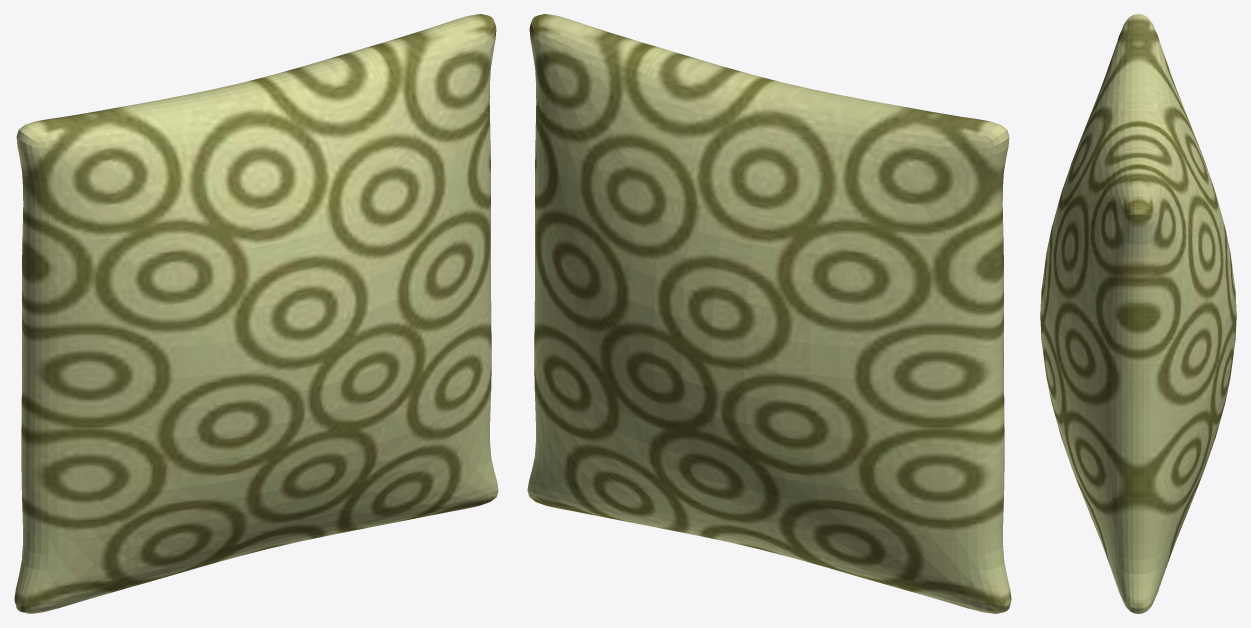
File: sweethome3d-contributions-pillow.glb
The picture shows the model from 3 angles, left to right: view 1: azimuth 30°, elevation 25°; view 2: azimuth 150°, elevation 25°; view 3: azimuth 270°, elevation 25°; orthographic projection. The views are drawn at different scales.
Parts seen in each view (by area): view 1: PolyMesh_1; view 2: PolyMesh_1; view 3: PolyMesh_1.
Part boxes in pixels (x1=…): PolyMesh_1: x1=14, y1=14, x2=498, y2=613; PolyMesh_1: x1=527, y1=14, x2=1011, y2=613; PolyMesh_1: x1=1040, y1=14, x2=1236, y2=613.
Bounding box in the file's own units: 1.06 × 1.03 × 0.447.
1 material, 1 textured.
